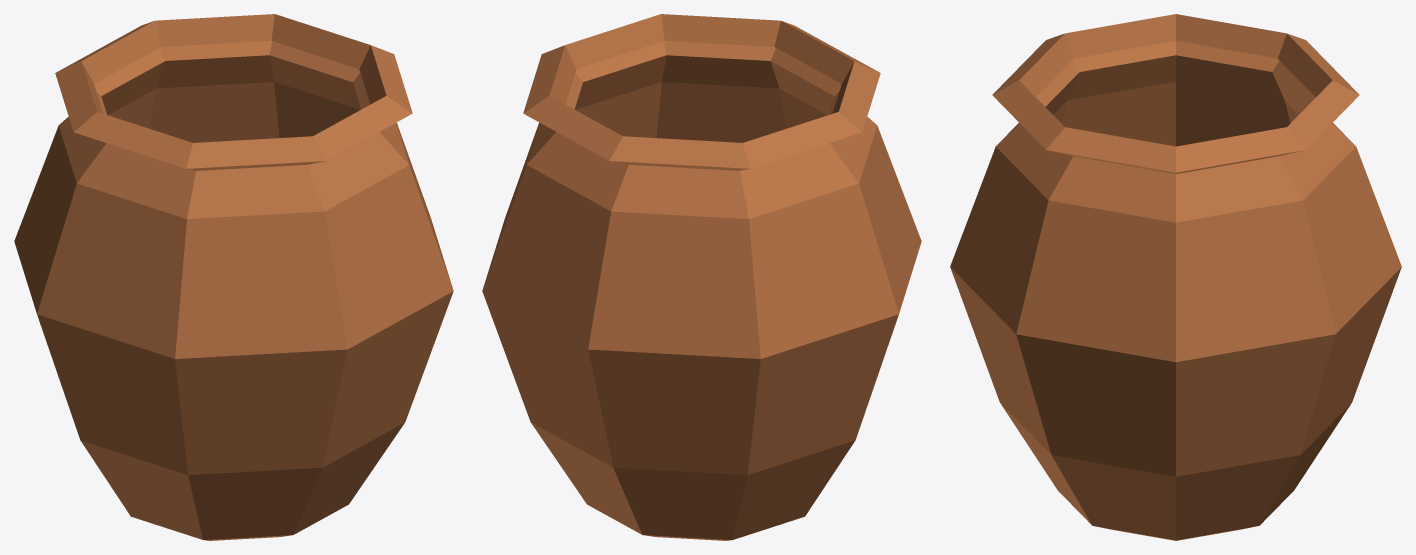
The model's file is roman_pot_1.fbx.
3 renders of one model, left to right at view 1: azimuth 30°, elevation 25°; view 2: azimuth 150°, elevation 25°; view 3: azimuth 270°, elevation 25°, orthographic.
Visible parts, largest first — view 1: Cylinder.008; view 2: Cylinder.008; view 3: Cylinder.008.
Part boxes in pixels (x1=…): Cylinder.008: x1=14, y1=14, x2=453, y2=540; Cylinder.008: x1=482, y1=14, x2=921, y2=540; Cylinder.008: x1=950, y1=14, x2=1401, y2=540.
Bounding box in the file's own units: 0.7698 × 0.792 × 0.7698.
Materials: 1 (1 with a texture image).
